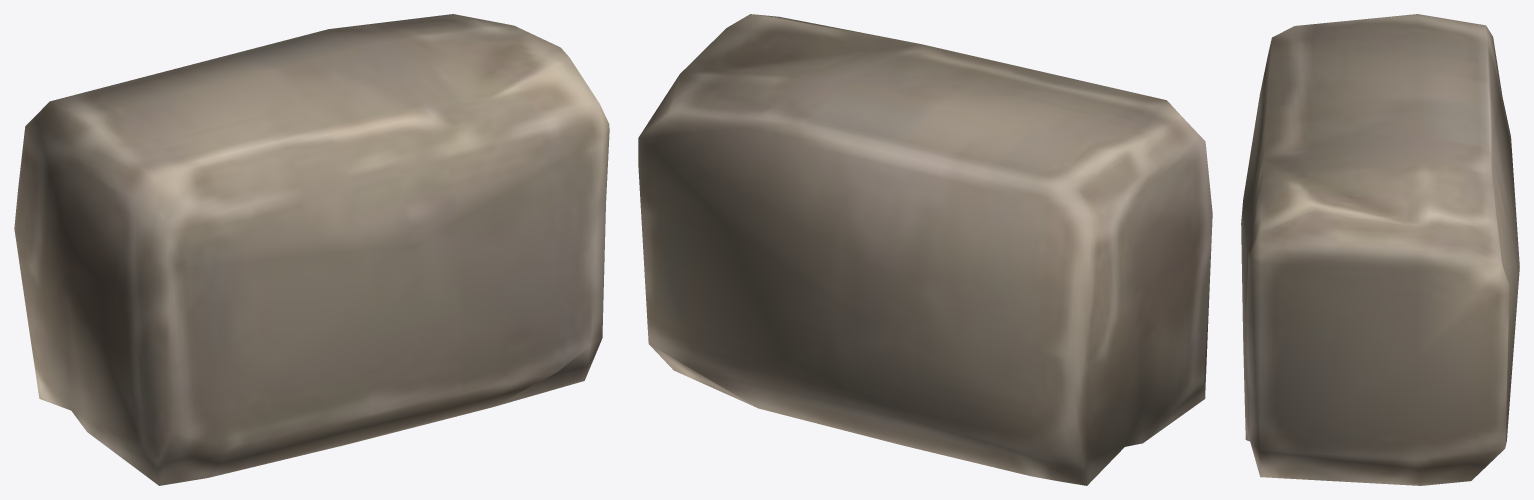
File: tijolo3.glb
The picture shows the model from 3 angles, left to right: view 1: azimuth 30°, elevation 25°; view 2: azimuth 150°, elevation 25°; view 3: azimuth 270°, elevation 25°; orthographic projection. The views are drawn at different scales.
Parts seen in each view (by area): view 1: Prop_Brick3; view 2: Prop_Brick3; view 3: Prop_Brick3.
Part boxes in pixels (x1=…): Prop_Brick3: x1=14, y1=14, x2=609, y2=485; Prop_Brick3: x1=638, y1=14, x2=1212, y2=485; Prop_Brick3: x1=1241, y1=14, x2=1519, y2=485.
Bounding box in the file's own units: 0.3814 × 0.2497 × 0.2156.
Materials: 1 (1 with a texture image).
